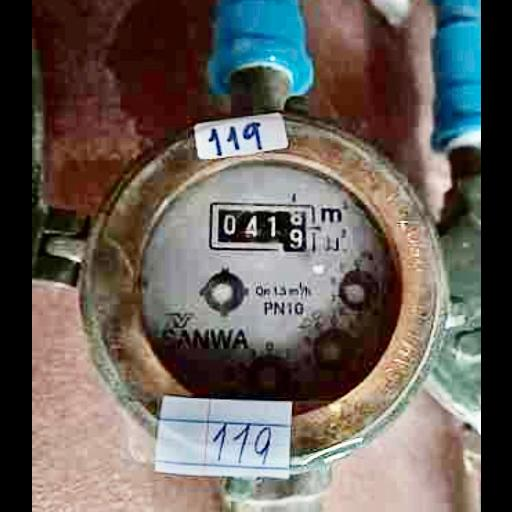0: (217, 208, 242, 242)
1: (261, 211, 284, 244)
4: (241, 210, 262, 243)
8: (282, 211, 306, 251)
border_water_meter_number: (207, 202, 316, 253)
